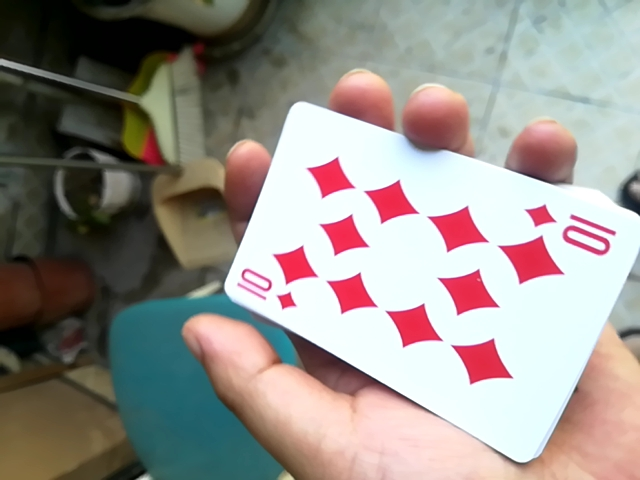fk 10: (205, 88, 634, 452)
